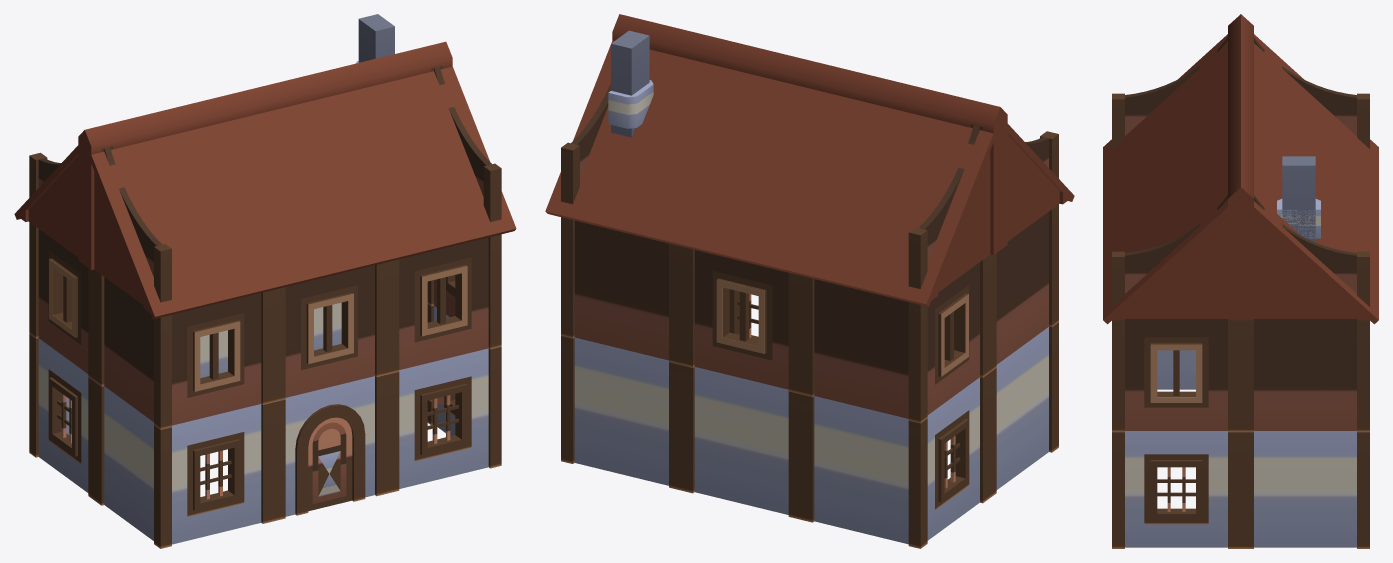
The model's file is maison-village-1.glb.
3 renders of one model, left to right at view 1: azimuth 30°, elevation 25°; view 2: azimuth 150°, elevation 25°; view 3: azimuth 270°, elevation 25°, orthographic. The views are drawn at different scales.
Visible parts, largest first — view 1: wall-window-shutters, roof-high; view 2: wall-window-shutters, roof-high; view 3: wall-window-shutters, roof-high.
Part boxes in pixels (bbox=[...]): wall-window-shutters: bbox=[29, 14, 501, 548]; roof-high: bbox=[14, 41, 516, 319]; wall-window-shutters: bbox=[561, 30, 1058, 548]; roof-high: bbox=[545, 14, 1074, 306]; wall-window-shutters: bbox=[1112, 37, 1369, 548]; roof-high: bbox=[1103, 14, 1378, 324].
Bounding box in the file's own units: 9.54 × 9.6 × 6.42.
2 materials, 1 textured.
